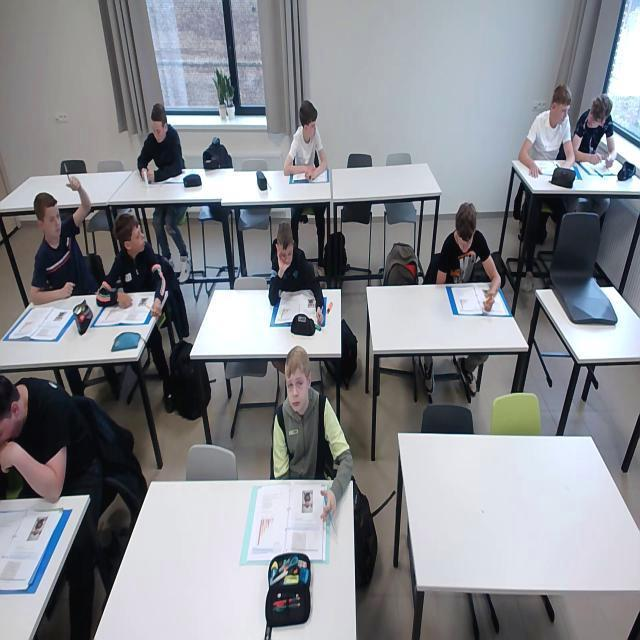Looking away: (116, 216, 148, 254), (550, 85, 571, 126), (298, 103, 319, 141), (587, 98, 605, 131)
Looking forward: (284, 352, 310, 412)
Raising hand: (30, 170, 94, 306)
Reading-writing: (437, 203, 502, 313), (269, 224, 327, 326), (136, 102, 185, 185)
